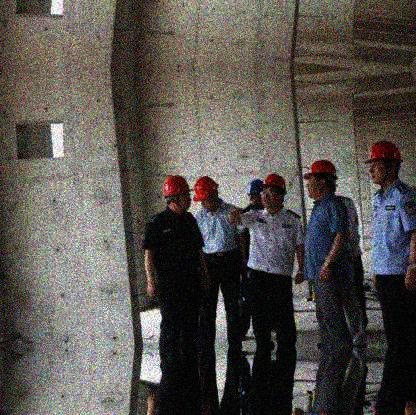helmet: (366, 142, 399, 189), (304, 160, 338, 205), (163, 176, 192, 213), (192, 176, 221, 211), (261, 173, 285, 210), (246, 179, 263, 210)
